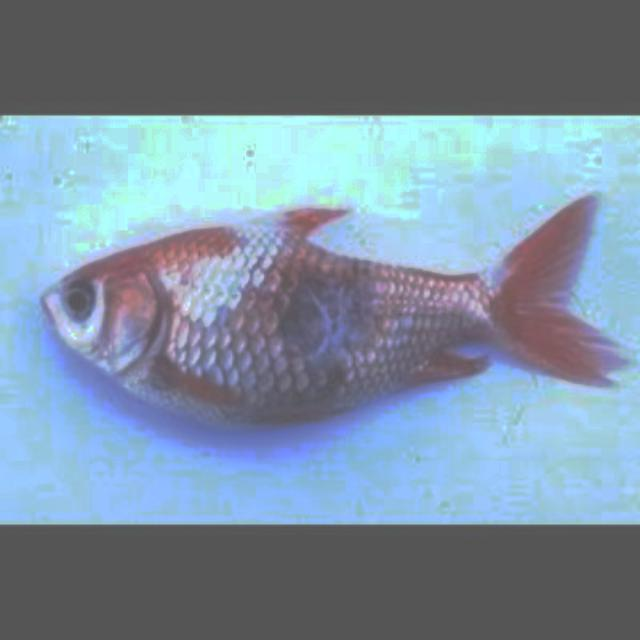Epizootic Ulcerative Syndrome -EUS-: (42, 195, 626, 422), (42, 198, 619, 421)
